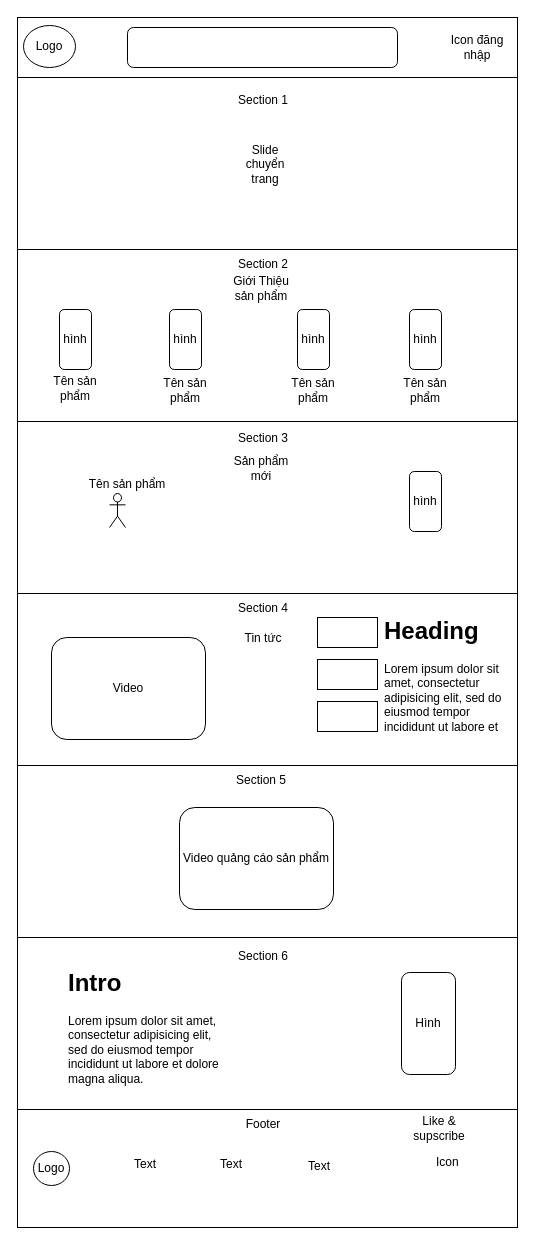
Some shapes in this 539 by 1245 pixel diagram are drawn without their labels. Here are the shapes that lost their labels. From the top down, the centre of each, then its label:
At pixel 262 47: "Menu".
At pixel 117 510: "Actor".
